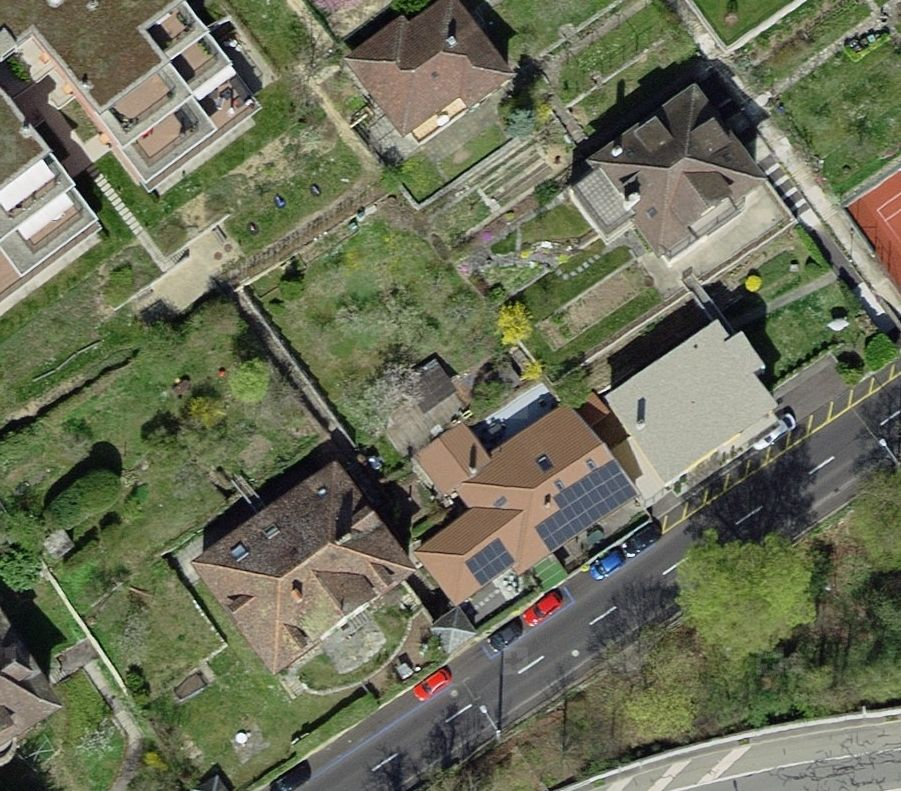solar: (534, 458, 636, 553), (461, 535, 515, 587)
